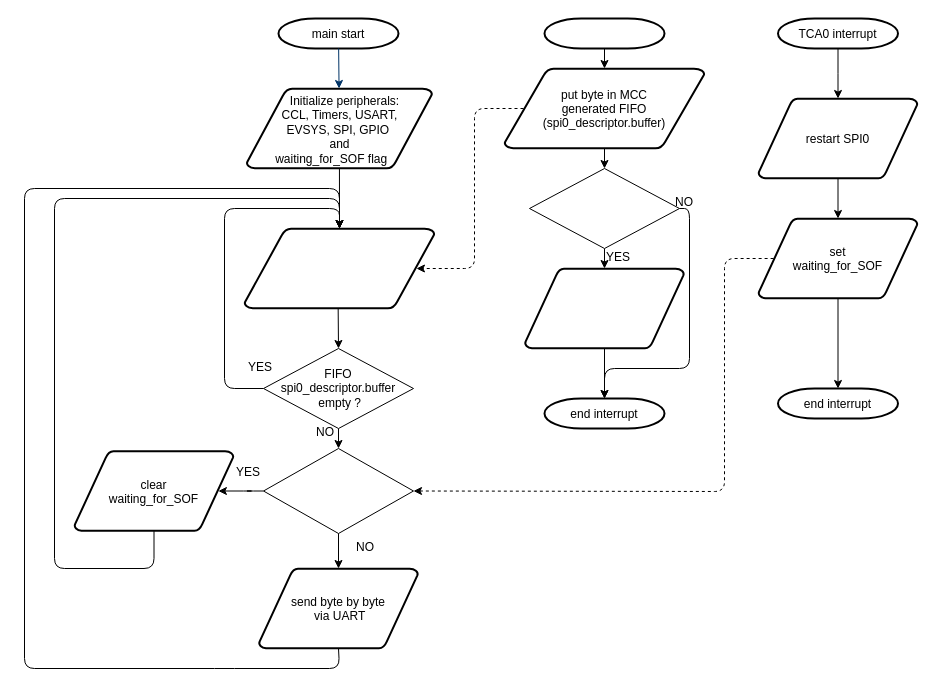
Some shapes in this 936 by 694 pixel diagram are drawn without their labels. Here are the shapes that lost their labels. From the top down, the centre of each, then its label:
the point at 604,33: SPI0 interrupt
the point at 604,208: FIFO full ?
the point at 339,268: get byte by byte from FIFO (spi0_descriptor.buffer)
the point at 604,308: signal data loss (to be added by user)
the point at 338,491: is waiting_for_SOF true ??
